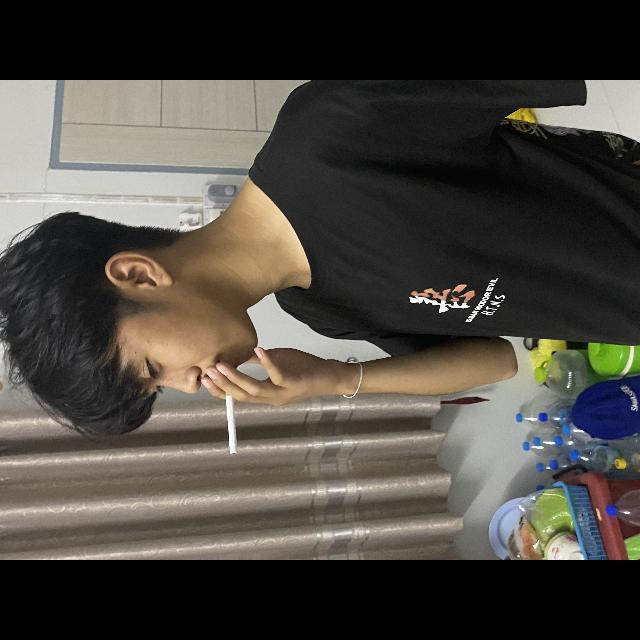rokok: (216, 390, 244, 458)
